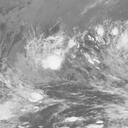cyclone: (31, 36, 77, 79)
